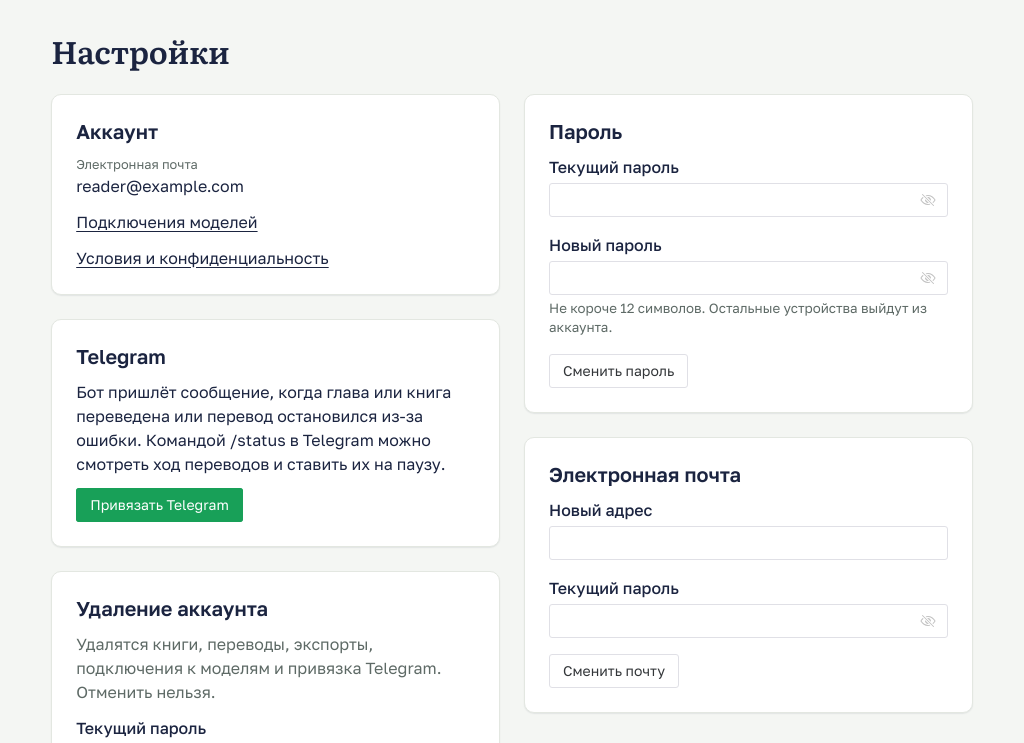
Test case: настройки › ошибка сервера показана
Click the button "Привязать Telegram".
click(160, 505)  # box top-left (76, 488), bottom-right (243, 522)
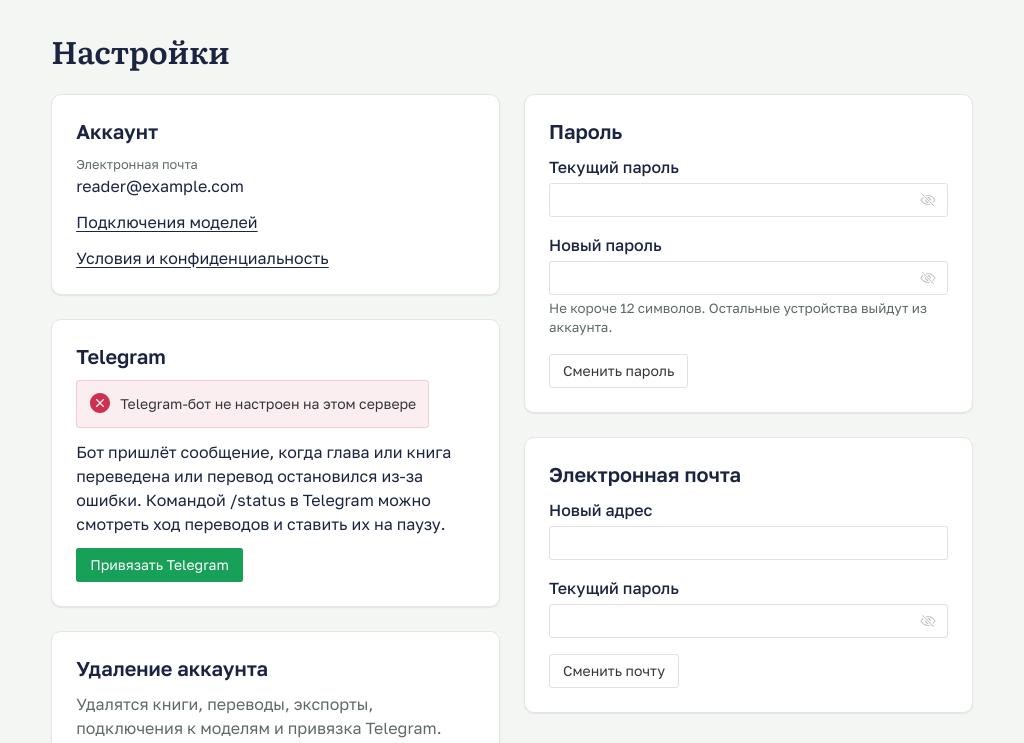
Expected: the message "Telegram-бот не настроен на этом сервере" is shown, top-left (76, 380), bottom-right (429, 428)
